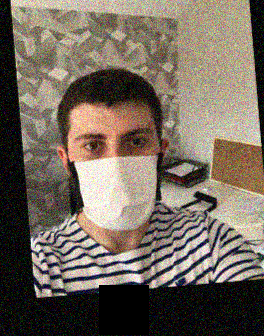with_mask: (66, 119, 162, 230)
